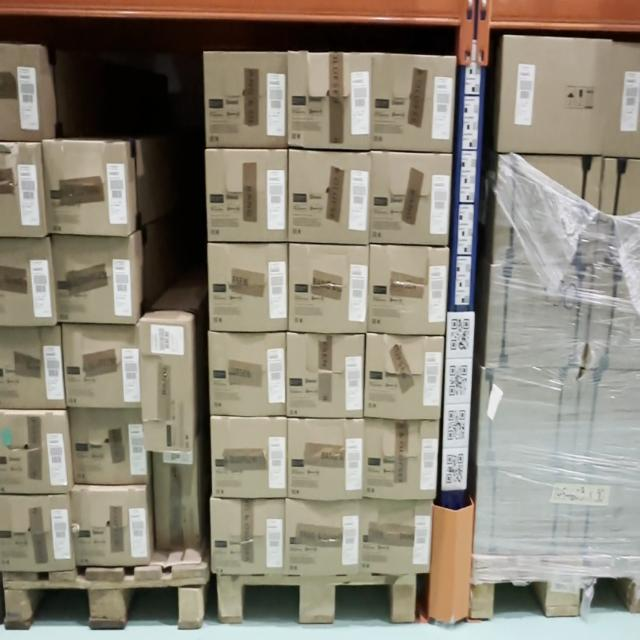box: (500, 28, 609, 153), (478, 363, 596, 475), (473, 472, 588, 580), (496, 158, 599, 266), (487, 271, 592, 370), (202, 47, 286, 144), (288, 55, 373, 144), (290, 152, 373, 243), (43, 145, 126, 235), (370, 150, 450, 243), (207, 150, 290, 239), (141, 317, 192, 460), (372, 239, 448, 331), (64, 324, 140, 414), (53, 238, 131, 325), (206, 245, 287, 328), (69, 485, 147, 571), (287, 245, 365, 330), (207, 415, 287, 496), (378, 57, 453, 143), (210, 334, 286, 417), (292, 417, 364, 502), (210, 498, 284, 580), (366, 419, 438, 502), (293, 334, 364, 418), (69, 411, 147, 483), (289, 500, 362, 576), (367, 340, 441, 413), (365, 504, 433, 578)
